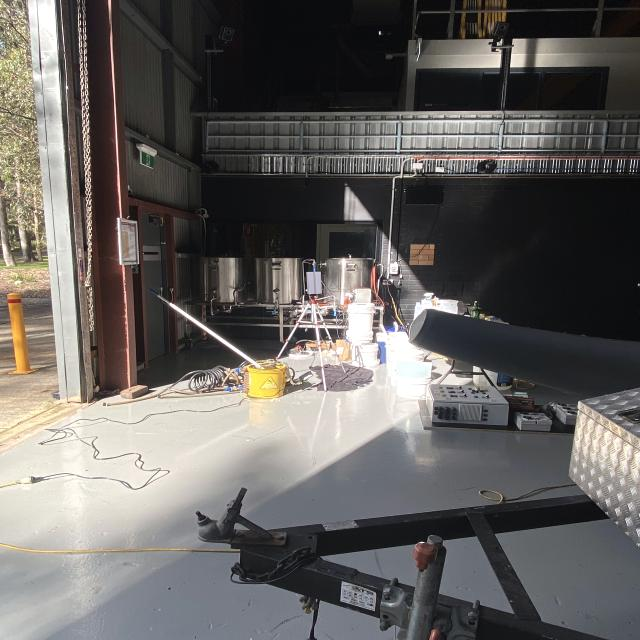matrix: (297, 267, 327, 301)
